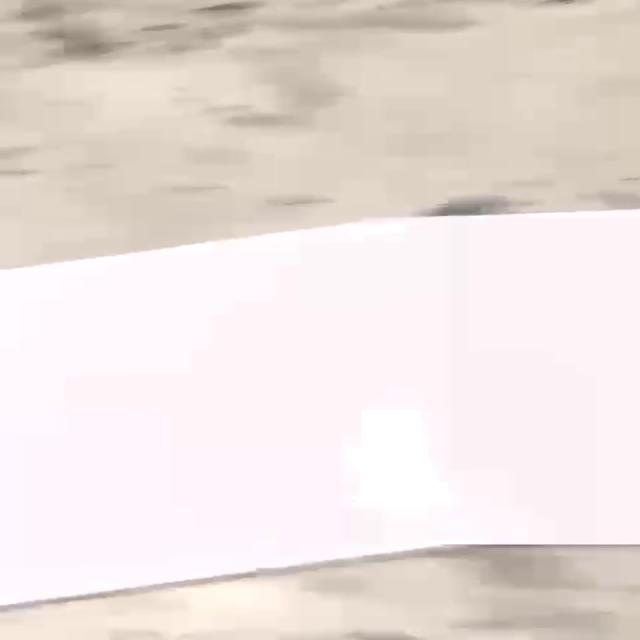road: (3, 211, 637, 602)
